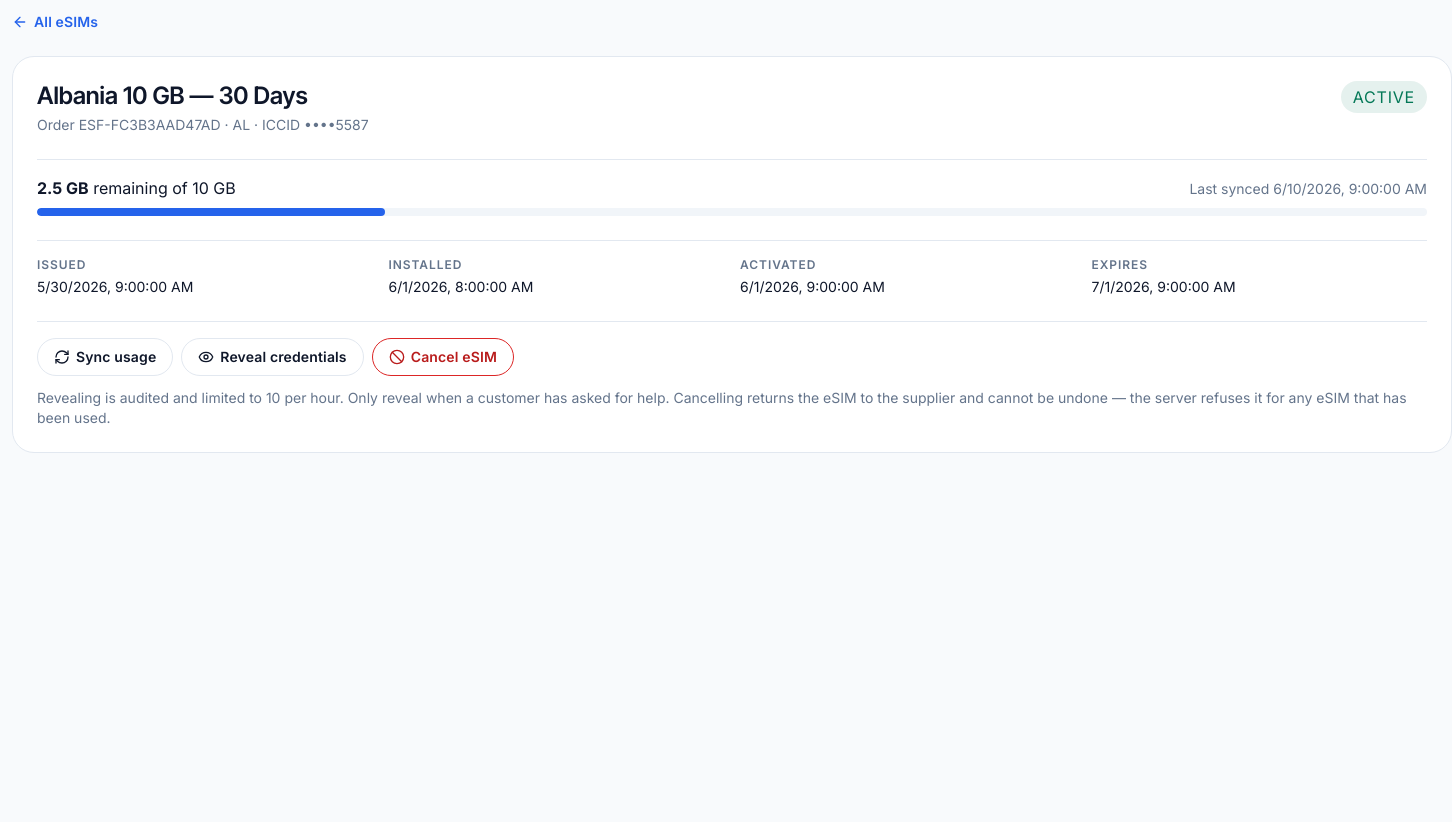
credentials › shows the full set once the operator asks
expect the heading named "albania 10 gb" is shown: met, box [37,81,308,110]
Click the 2nd button named "reveal credentials" at (272,357), box [181,338,364,376]
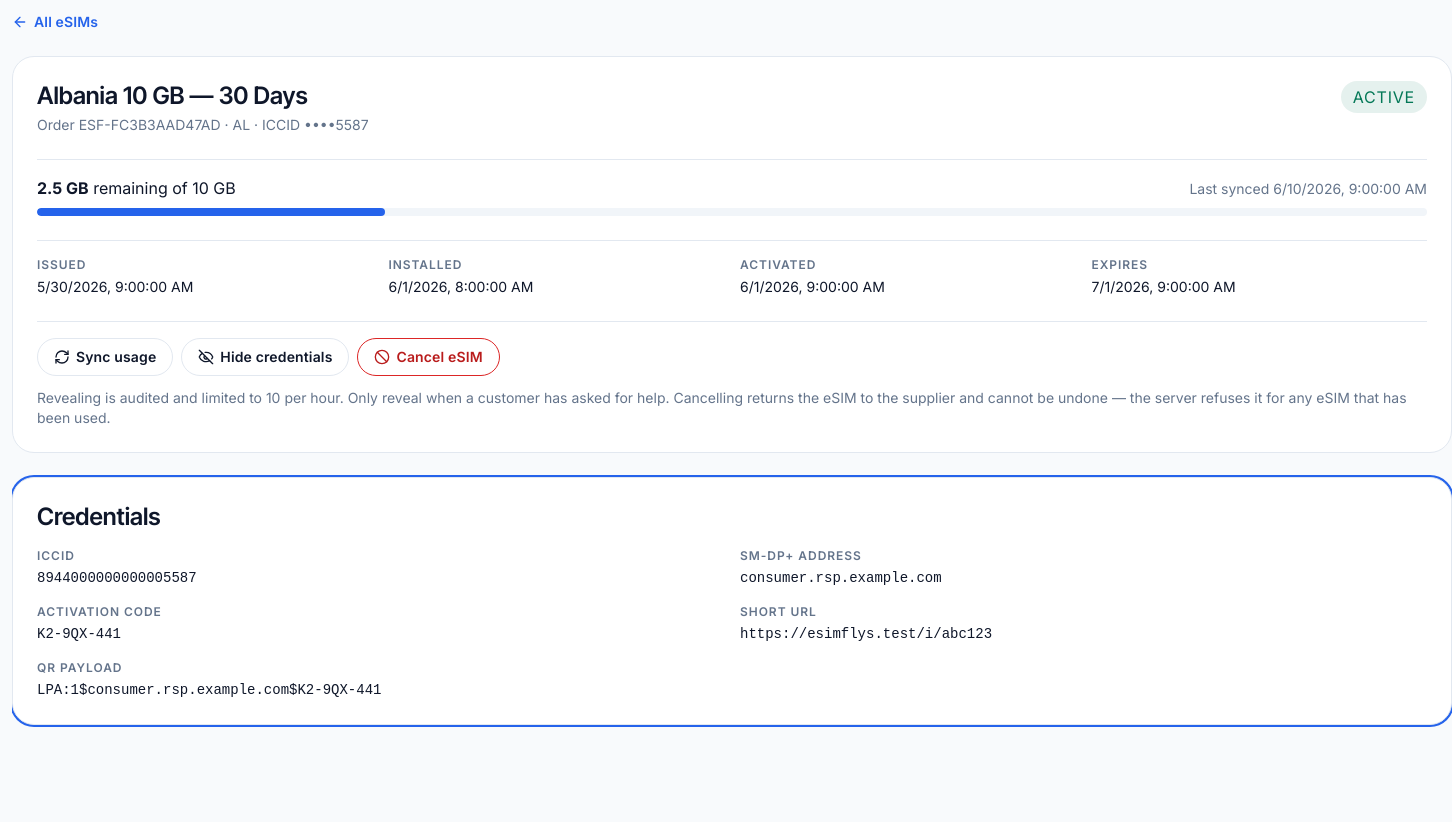
expect the text "8944000000000005587" is shown: met, box [37,570,197,586]
expect the text "consumer.rsp.example.com" is shown: met, box [740,570,942,586]
expect the text "K2-9QX-441" is shown: met, box [37,626,121,642]
